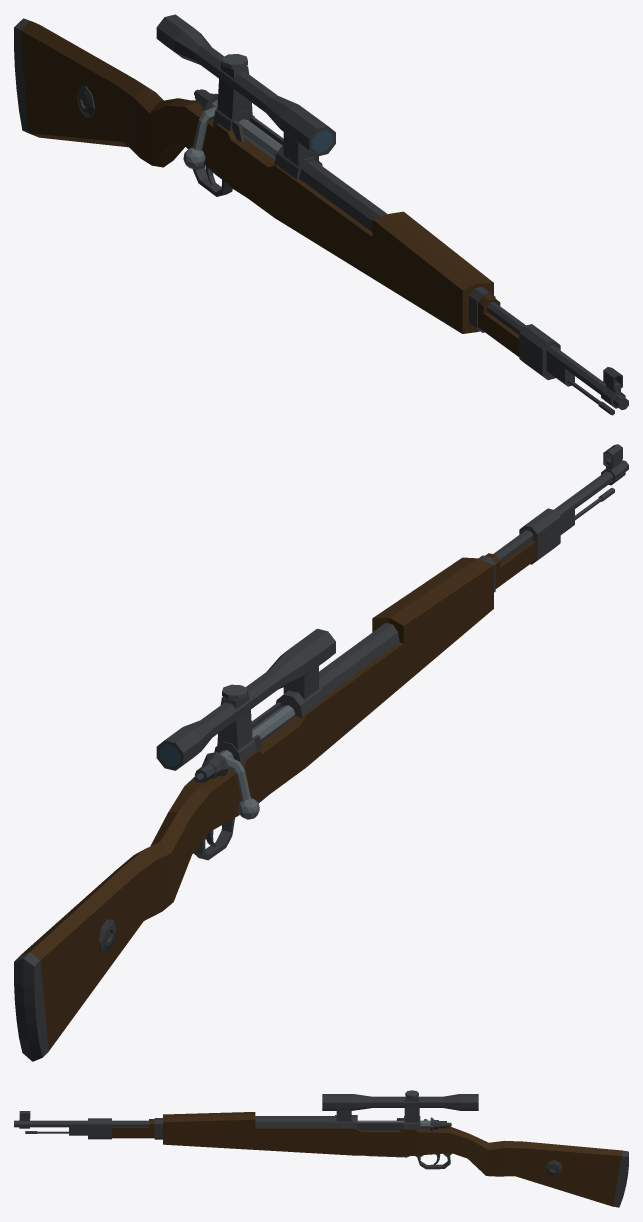
File: Kurtz.fbx
The picture shows the model from 3 angles, top to bottom: view 1: azimuth 30°, elevation 25°; view 2: azimuth 150°, elevation 25°; view 3: azimuth 270°, elevation 25°; orthographic projection. The views are drawn at different scales.
Parts seen in each view (by area): view 1: Kurtz; view 2: Kurtz; view 3: Kurtz.
Boxes of the visible parts, x1,y1,x2,y2 form: Kurtz: [14, 14, 628, 415]; Kurtz: [14, 444, 628, 1061]; Kurtz: [14, 1090, 628, 1207].
Bounding box in the file's own units: 0.075 × 0.3069 × 1.49.
